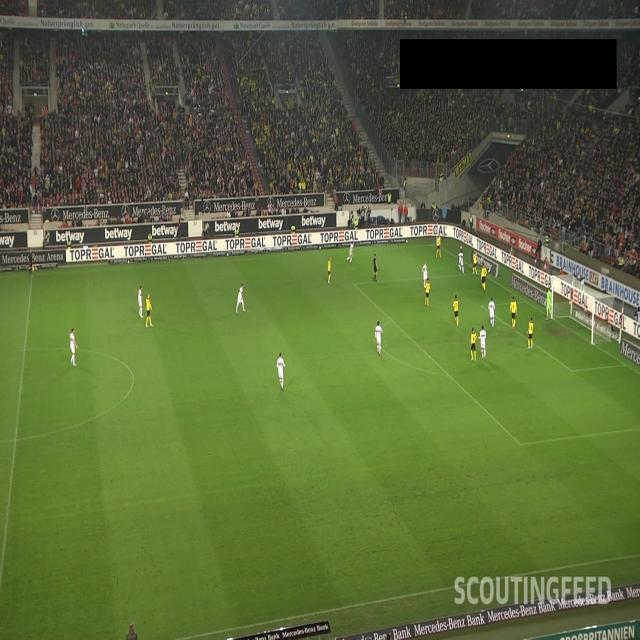ball: (458, 263, 461, 269)
